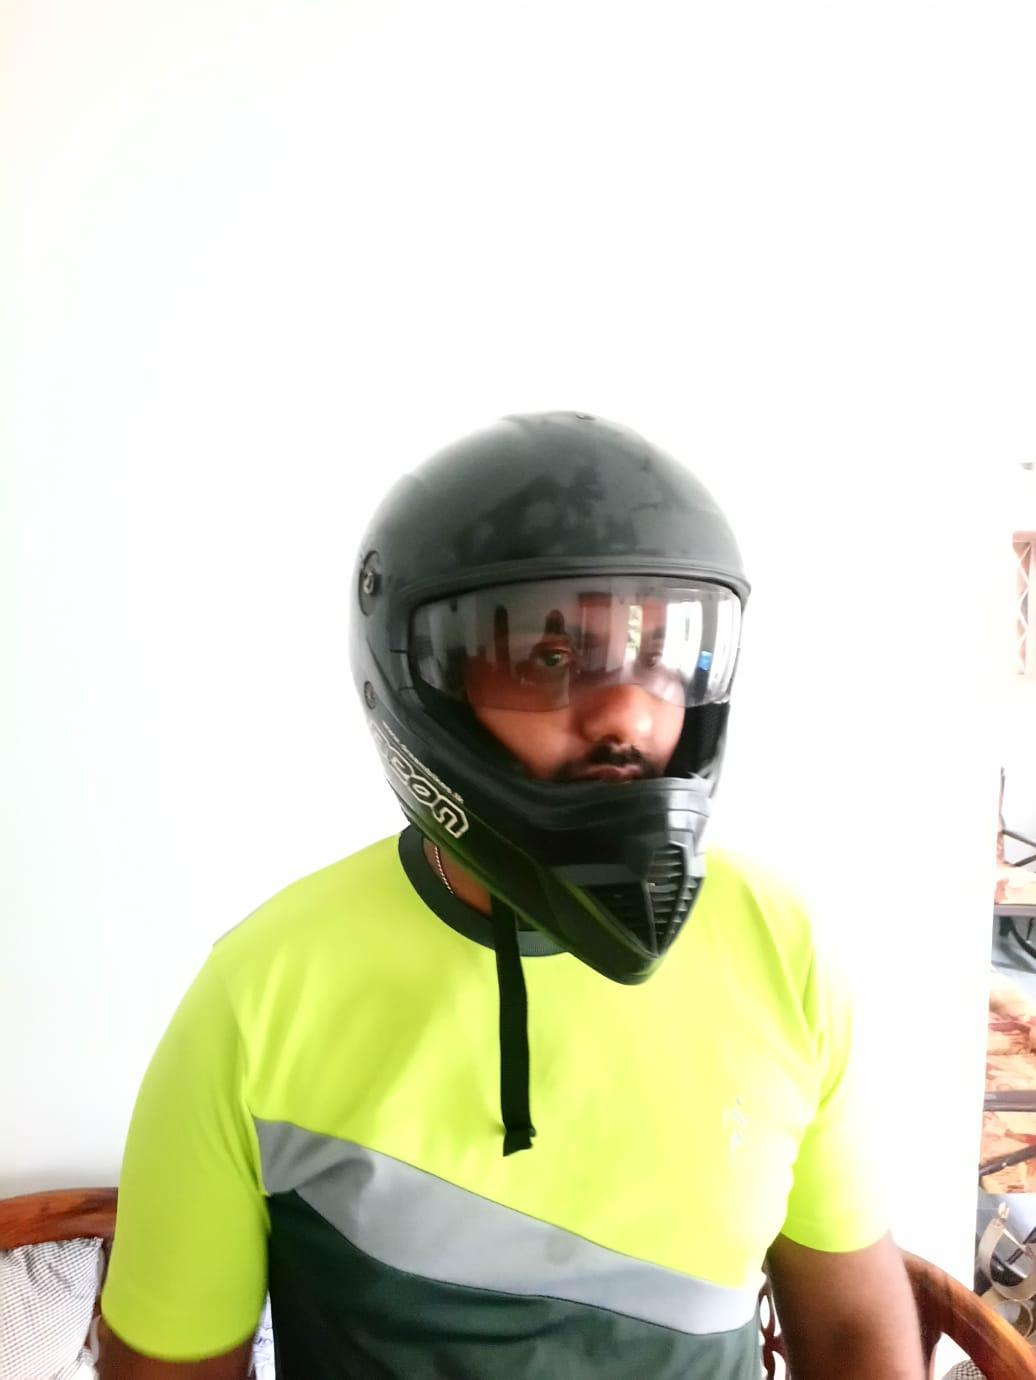helmet: (350, 412, 754, 989)
